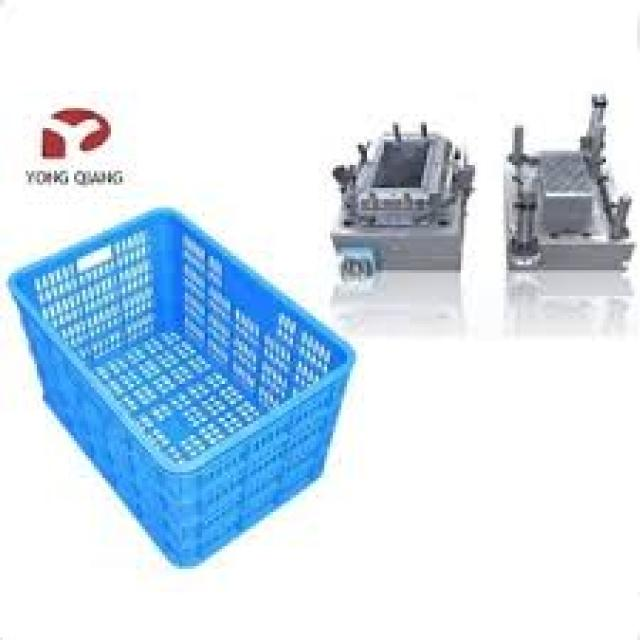basket: (0, 140, 402, 582)
